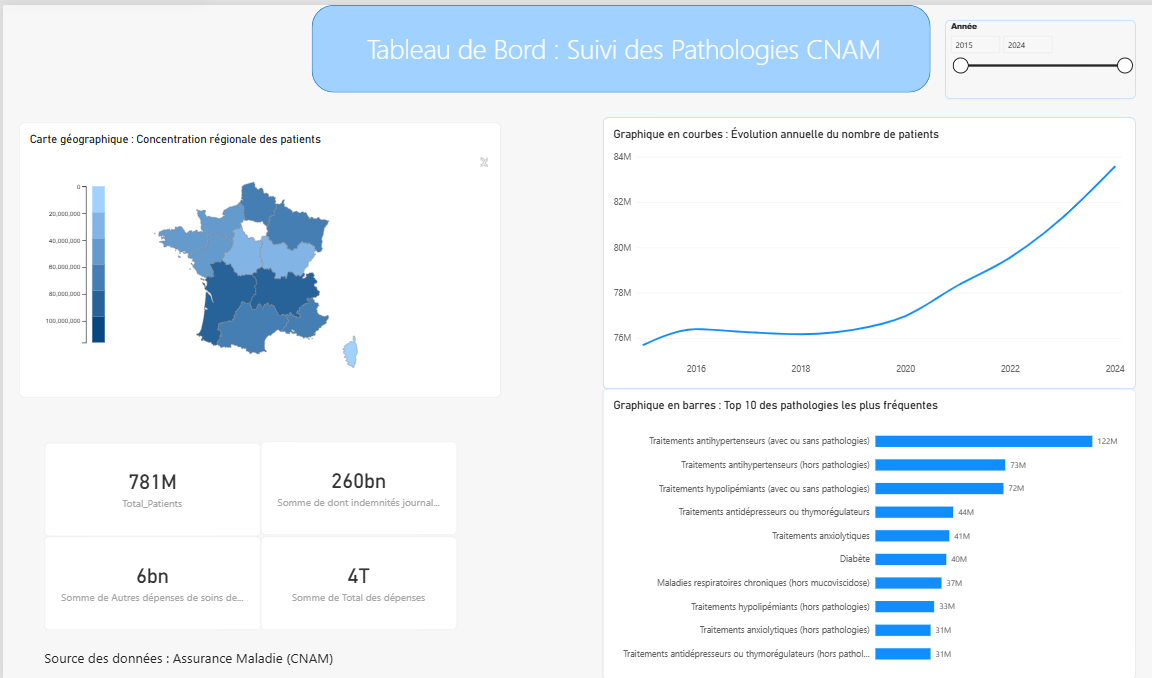

What the dashboard file says about the page in this screenshot:
{"tool":"powerbi","page":{"name":"Page 1","canvas":[1920,1080],"ordinal":0},"visuals":[{"type":"clusteredBarChart","title":"Graphique en barres : Top 10 des pathologies les plus fréquentes","fields":{"Category":["data_effectifs_clean.libelle_pathologie"],"Y":["data_effectifs_clean.Total_Patients"]},"box":[960,614,852,466],"z":2000},{"type":"lineChart","title":"Graphique en courbes : Évolution annuelle du nombre de patients","fields":{"Category":["data_effectifs_clean.annee"],"Y":["data_effectifs_clean.Total_Patients"]},"box":[960,180,852,434],"z":3000},{"type":"slicer","fields":{"Values":["data_effectifs_clean.annee"]},"box":[1508,24,304,126],"z":4000},{"type":"shape","box":[494,0,990,140],"z":5000},{"type":"textbox","box":[1670,0,176,150],"z":6000},{"type":"textbox","box":[582,40,864,148],"z":7000},{"type":"cartography6439711748644562B5895D8406A5421D","title":"Carte géographique : Concentration régionale des patients","fields":{"measure":["data_effectifs_clean.Total_Patients"],"category":["data_effectifs_clean.region"]},"box":[26,188,770,440],"z":7001},{"type":"advanceCardE03760C5AB684758B56AA29F9E6C257B","fields":{"mainMeasure":["data_effectifs_clean.Total_Patients"]},"box":[66,700,346,150],"z":7002},{"type":"advanceCardE03760C5AB684758B56AA29F9E6C257B","fields":{"mainMeasure":["Sum(data_depenses_clean.dont indemnités journalières maladie et AT/MP)"]},"box":[412,698,314,150],"z":7003},{"type":"advanceCardE03760C5AB684758B56AA29F9E6C257B","fields":{"mainMeasure":["Sum(data_depenses_clean.Autres dépenses de soins de ville)"]},"box":[66,850,346,150],"z":7004},{"type":"advanceCardE03760C5AB684758B56AA29F9E6C257B","fields":{"mainMeasure":["Sum(data_depenses_clean.Total des dépenses)"]},"box":[412,850,314,150],"z":7005},{"type":"textbox","box":[66,1030,468,36],"z":7006}]}

Visuals, with their boxes on the page's 1920x1080 design canvas (x1, y1, x2, y2). These are canvas units, not pixel positions in the 1152x678 screenshot, which may show the page scaled, cropped or inside an application window:
"Graphique en barres : Top 10 des pathologies les plus fréquentes" clusteredBarChart: region(960, 614, 1812, 1080)
"Graphique en courbes : Évolution annuelle du nombre de patients" lineChart: region(960, 180, 1812, 614)
slicer - data_effectifs_clean.annee: region(1508, 24, 1812, 150)
shape: region(494, 0, 1484, 140)
textbox: region(1670, 0, 1846, 150)
textbox: region(582, 40, 1446, 188)
"Carte géographique : Concentration régionale des patients" cartography6439711748644562B5895D8406A5421D: region(26, 188, 796, 628)
advanceCardE03760C5AB684758B56AA29F9E6C257B - data_effectifs_clean.Total_Patients: region(66, 700, 412, 850)
advanceCardE03760C5AB684758B56AA29F9E6C257B - Sum(data_depenses_clean.dont indemnités journalières maladie et AT/MP): region(412, 698, 726, 848)
advanceCardE03760C5AB684758B56AA29F9E6C257B - Sum(data_depenses_clean.Autres dépenses de soins de ville): region(66, 850, 412, 1000)
advanceCardE03760C5AB684758B56AA29F9E6C257B - Sum(data_depenses_clean.Total des dépenses): region(412, 850, 726, 1000)
textbox: region(66, 1030, 534, 1066)
